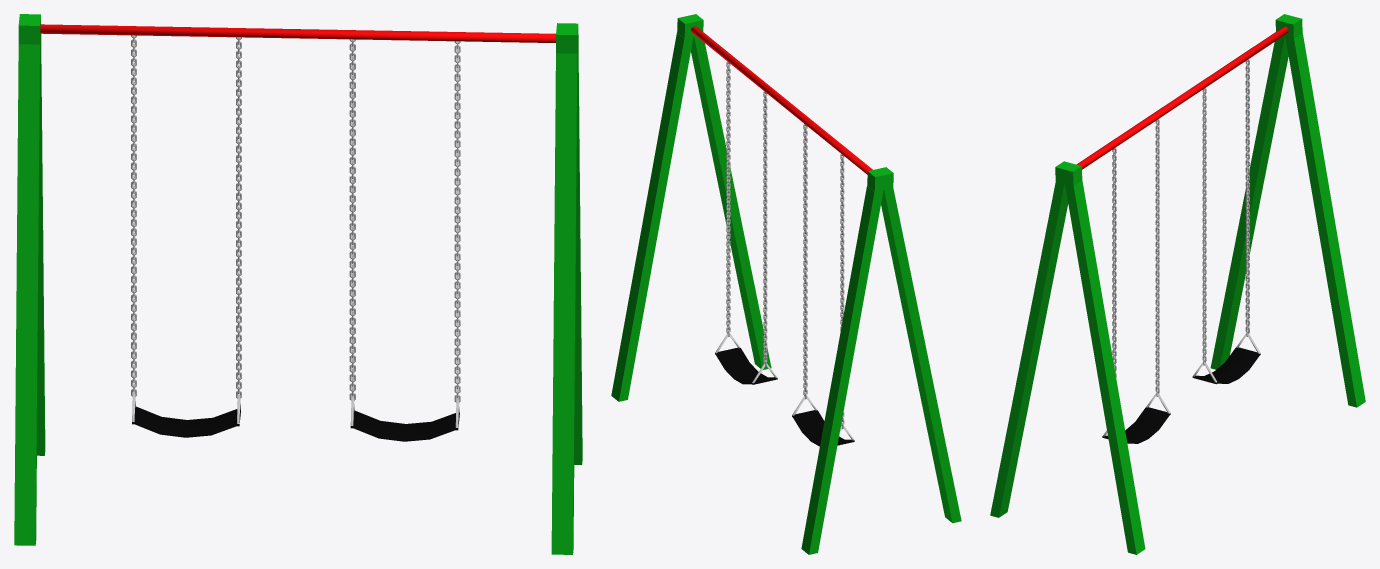
The model's file is swingset.glb.
3 views of the same model, side by side, from view 1: azimuth 30°, elevation 25°; view 2: azimuth 150°, elevation 25°; view 3: azimuth 270°, elevation 25° (orthographic). The views are drawn at different scales.
Parts seen in each view (by area): view 1: swing2; view 2: swing2; view 3: swing2.
Part boxes in pixels (bbox=[...]): swing2: bbox=[14, 14, 582, 554]; swing2: bbox=[611, 14, 961, 554]; swing2: bbox=[990, 14, 1365, 554].
Bounding box in the file's own units: 2.78 × 2.47 × 2.3.
Materials: 2 (1 with a texture image).
